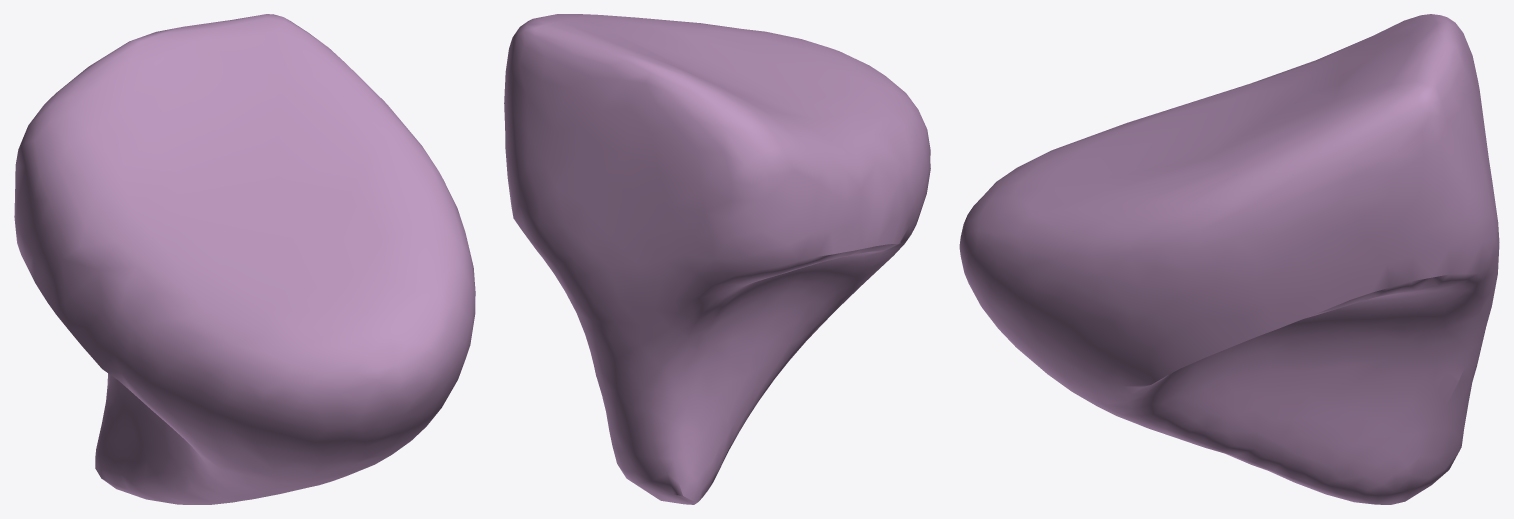
3 views of the same model, side by side, from view 1: azimuth 30°, elevation 25°; view 2: azimuth 150°, elevation 25°; view 3: azimuth 270°, elevation 25° (orthographic). The views are drawn at different scales.
Parts seen in each view (by area): view 1: 蚓垂; view 2: 蚓垂; view 3: 蚓垂.
Part boxes in pixels (box(x1,y1,x2,y2)): 蚓垂: box(14, 14, 475, 504); 蚓垂: box(504, 14, 930, 504); 蚓垂: box(959, 14, 1499, 504).
Bounding box in the file's own units: 0.0188 × 0.0232 × 0.0241.
